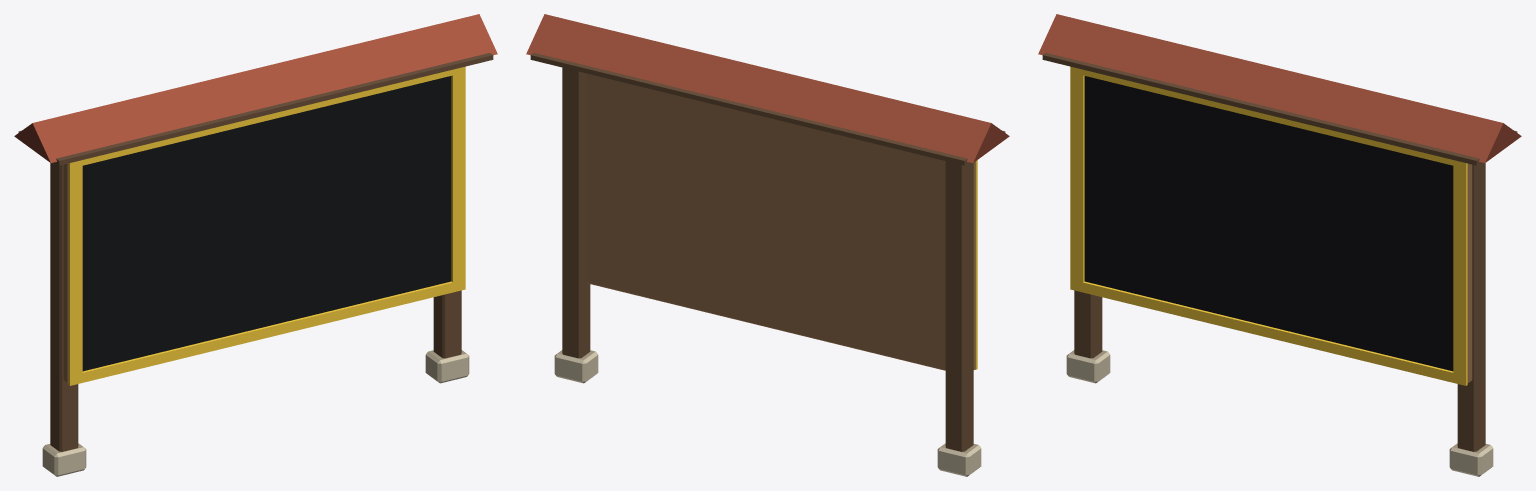
The model's file is plaza_board.glb.
The picture shows the model from 3 angles, left to right: view 1: azimuth 30°, elevation 25°; view 2: azimuth 150°, elevation 25°; view 3: azimuth 330°, elevation 25°; orthographic projection.
Parts seen in each view (by area): view 1: LOD0; view 2: LOD0; view 3: LOD0.
Boxes of the visible parts, bbox=[...] form: LOD0: bbox=[14, 14, 497, 476]; LOD0: bbox=[526, 14, 1009, 476]; LOD0: bbox=[1038, 14, 1521, 476].
Size of the model in its own units: 7 by 5.3 by 1.1.
1 material, 1 textured.
